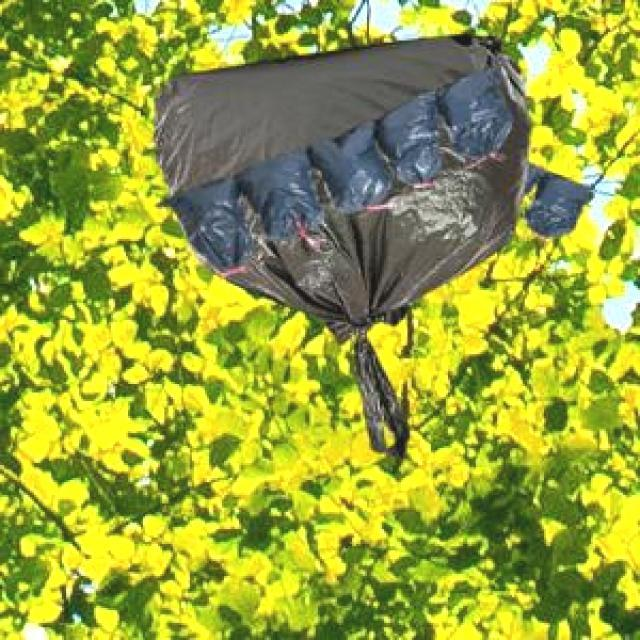Trashbag: (170, 178, 250, 271), (244, 154, 324, 238), (439, 74, 516, 161), (314, 132, 388, 210), (379, 101, 445, 173), (526, 174, 590, 240)
